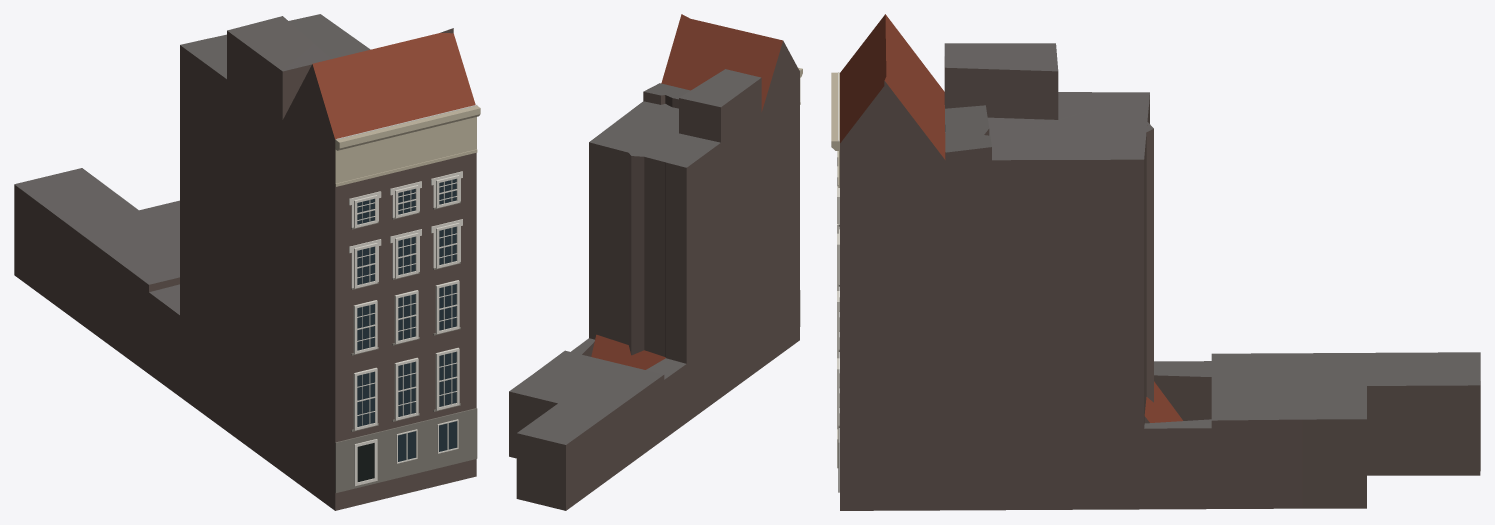
3 renders of one model, left to right at view 1: azimuth 30°, elevation 25°; view 2: azimuth 150°, elevation 25°; view 3: azimuth 270°, elevation 25°, orthographic. The views are drawn at different scales.
Parts seen in each view (by area): view 1: spec-0363100012175655; view 2: spec-0363100012175655; view 3: spec-0363100012175655.
Boxes of the visible parts, x1=… form: spec-0363100012175655: x1=14, y1=14, x2=480, y2=510; spec-0363100012175655: x1=509, y1=14, x2=802, y2=510; spec-0363100012175655: x1=831, y1=14, x2=1480, y2=510.
Bounding box in the file's own units: 7.59 × 22.18 × 30.33.
